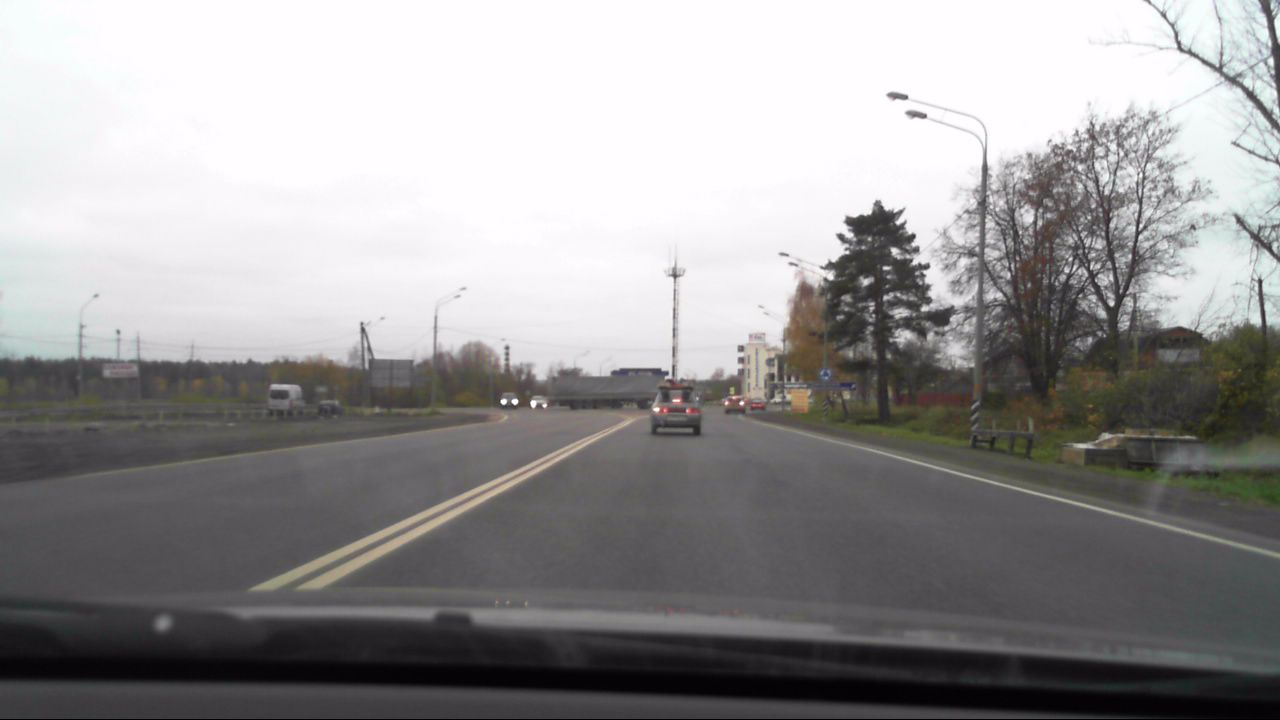Round-About: (816, 365, 836, 382)
